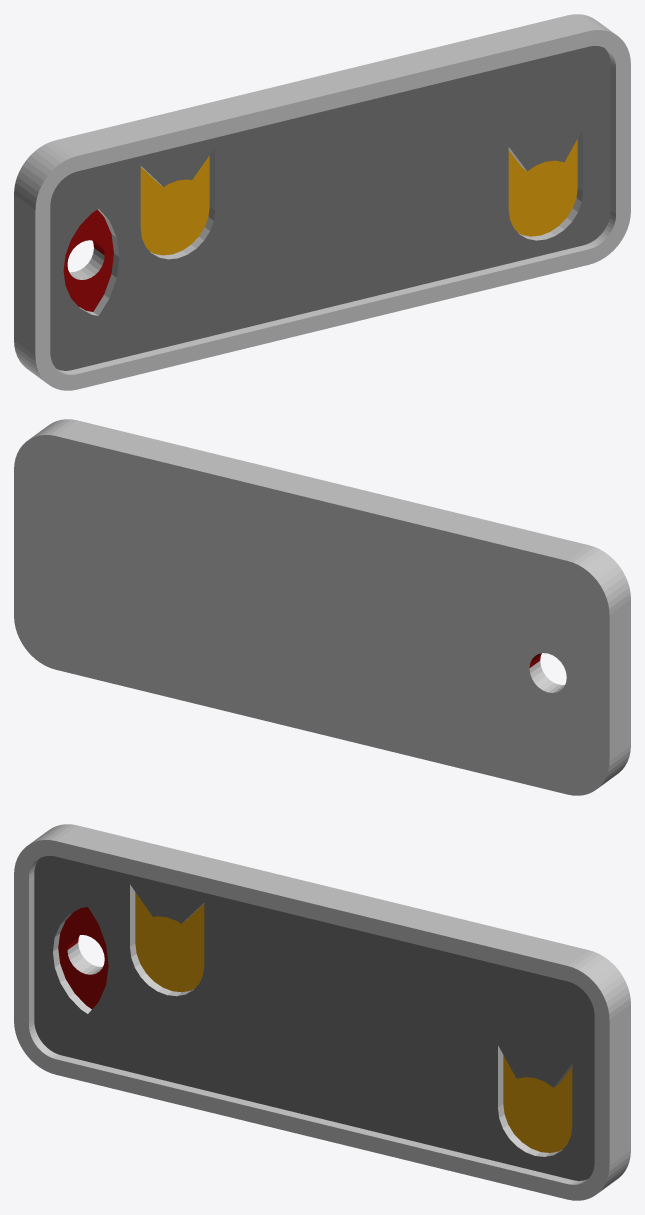
The model's file is Name-Tag.gltf.
3 renders of one model, top to bottom at view 1: azimuth 30°, elevation 25°; view 2: azimuth 150°, elevation 25°; view 3: azimuth 330°, elevation 25°, orthographic.
Bounding box in the file's own units: 113 × 42.48 × 7.08.
